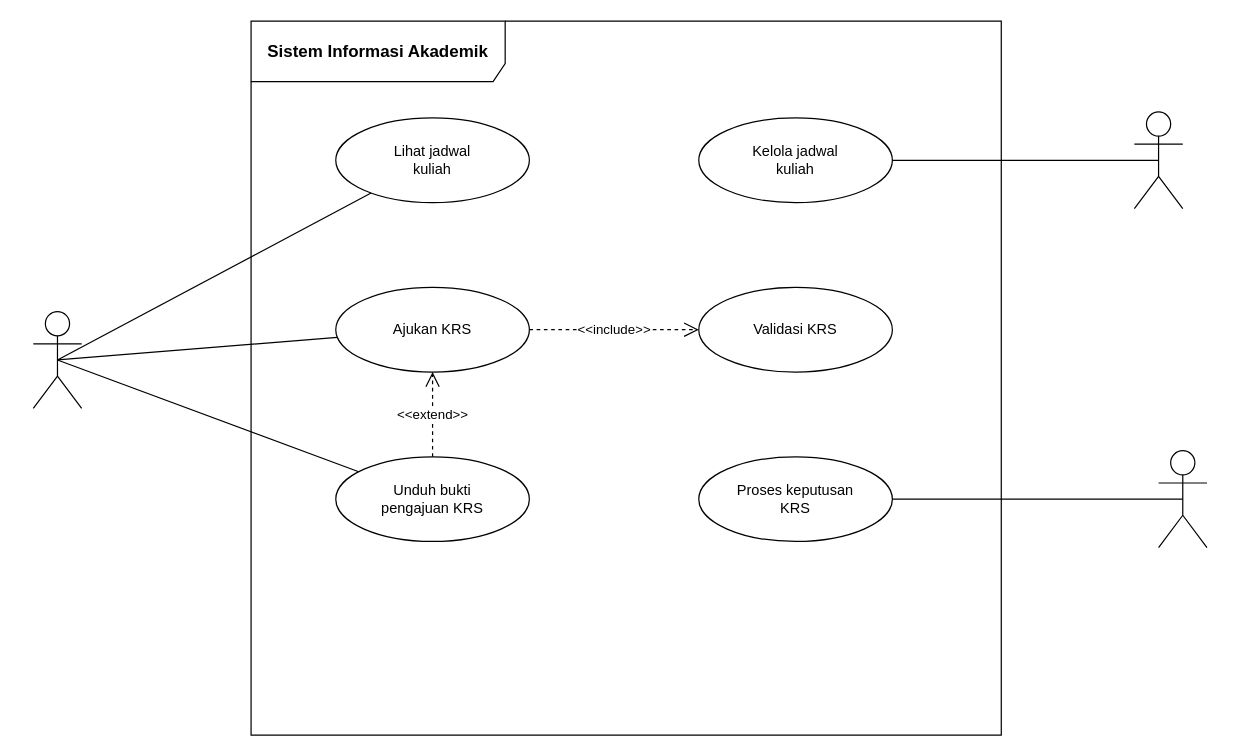
Some shapes in this 1240 by 756 pixel diagram are drawn without their labels. Each missing label, with the box of its shape:
Admin Akademik: (1133, 111, 1183, 209)
Dosen Wali: (1157, 450, 1207, 548)
Mahasiswa: (32, 310, 82, 408)
